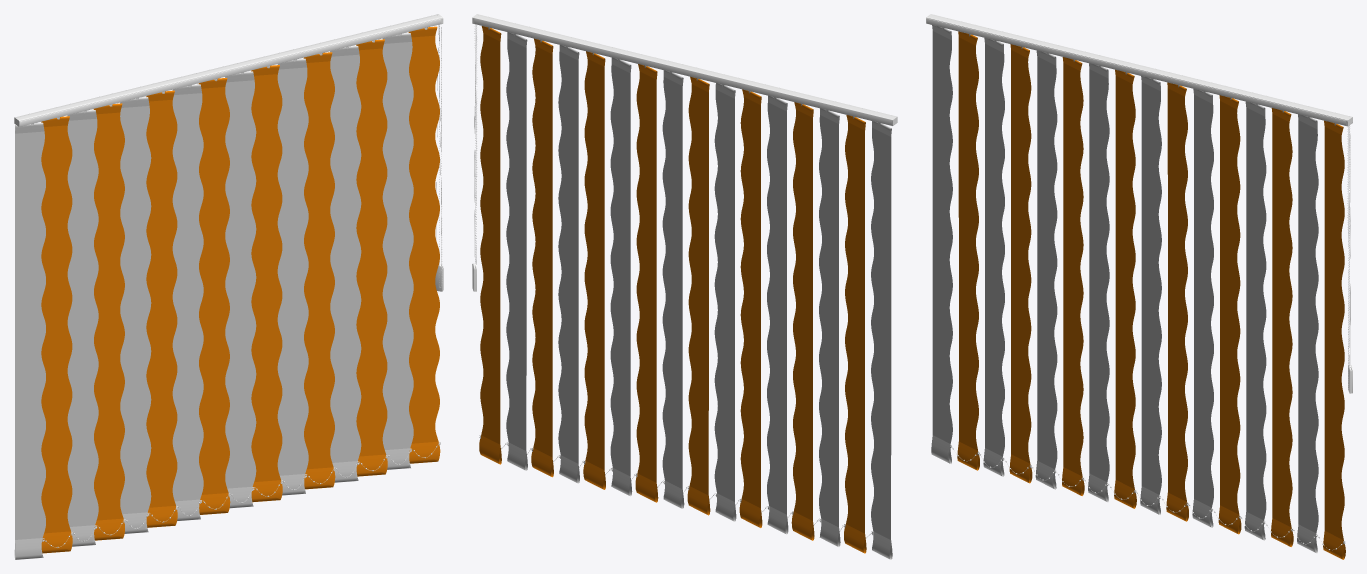
Rendered from Wavelines (gegenlaeufig).glb.
The picture shows the model from 3 angles, left to right: view 1: azimuth 30°, elevation 25°; view 2: azimuth 150°, elevation 25°; view 3: azimuth 330°, elevation 25°; orthographic projection.
Visible parts, largest first — view 1: Plane.009, Plane.016, Plane.012, Plane.022, Plane.018, Plane.024, Plane.014, Plane.010, Plane.020, Plane.015, Plane.011, Plane.023 (+5 smaller); view 2: Plane.016, Plane.009, Plane.015, Plane.014, Plane.013, Plane.012, Plane.010, Plane.011, Plane.017, Plane.018, Plane.019, Plane.020 (+5 smaller); view 3: Plane.017, Plane.009, Plane.016, Plane.018, Plane.015, Plane.019, Plane.014, Plane.020, Plane.013, Plane.021, Plane.024, Plane.012 (+5 smaller).
Part boxes in pixels (x1,y1,x2,y2): Plane.009: [14, 122, 45, 559]; Plane.016: [408, 26, 440, 463]; Plane.012: [303, 52, 335, 489]; Plane.022: [93, 103, 124, 540]; Plane.018: [198, 78, 230, 514]; Plane.024: [41, 116, 72, 553]; Plane.014: [356, 39, 387, 476]; Plane.010: [251, 65, 282, 502]; Plane.020: [146, 90, 177, 527]; Plane.015: [382, 33, 413, 469]; Plane.011: [277, 58, 308, 495]; Plane.023: [67, 110, 98, 546]; Plane.016: [479, 26, 501, 464]; Plane.009: [871, 121, 892, 559]; Plane.015: [506, 32, 527, 470]; Plane.014: [531, 38, 553, 477]; Plane.013: [558, 45, 579, 483]; Plane.012: [583, 51, 605, 489]; Plane.010: [635, 64, 658, 502]; Plane.011: [610, 57, 632, 496]; Plane.017: [662, 70, 684, 508]; Plane.018: [687, 76, 710, 515]; Plane.019: [714, 83, 736, 521]; Plane.020: [739, 89, 762, 527]; Plane.017: [1140, 76, 1161, 514]; Plane.009: [931, 25, 952, 463]; Plane.016: [1323, 120, 1345, 559]; Plane.018: [1114, 69, 1136, 508]; Plane.015: [1297, 114, 1318, 553]; Plane.019: [1088, 63, 1109, 502]; Plane.014: [1271, 108, 1293, 546]; Plane.020: [1062, 57, 1084, 495]; Plane.013: [1244, 101, 1266, 540]; Plane.021: [1035, 50, 1057, 489]; Plane.024: [957, 31, 979, 470]; Plane.012: [1218, 95, 1241, 534].
Size of the model in its own units: 2.01 by 2 by 0.0577.
4 materials, 1 textured.
